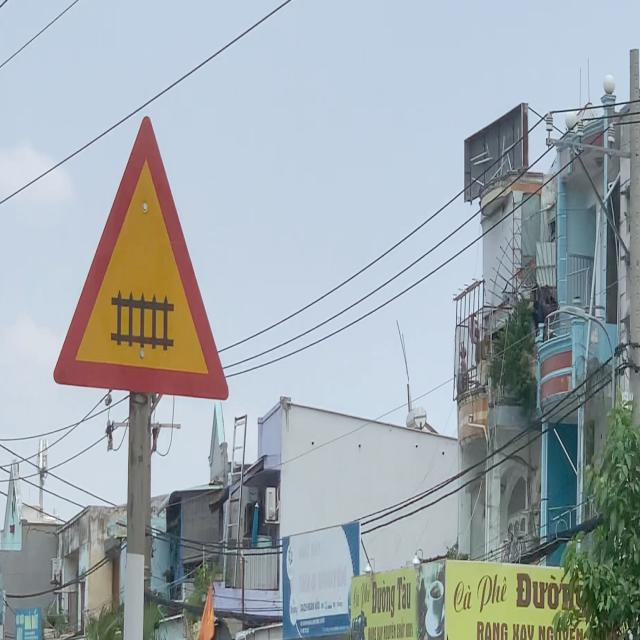Nguy hiem: (38, 95, 239, 423)
